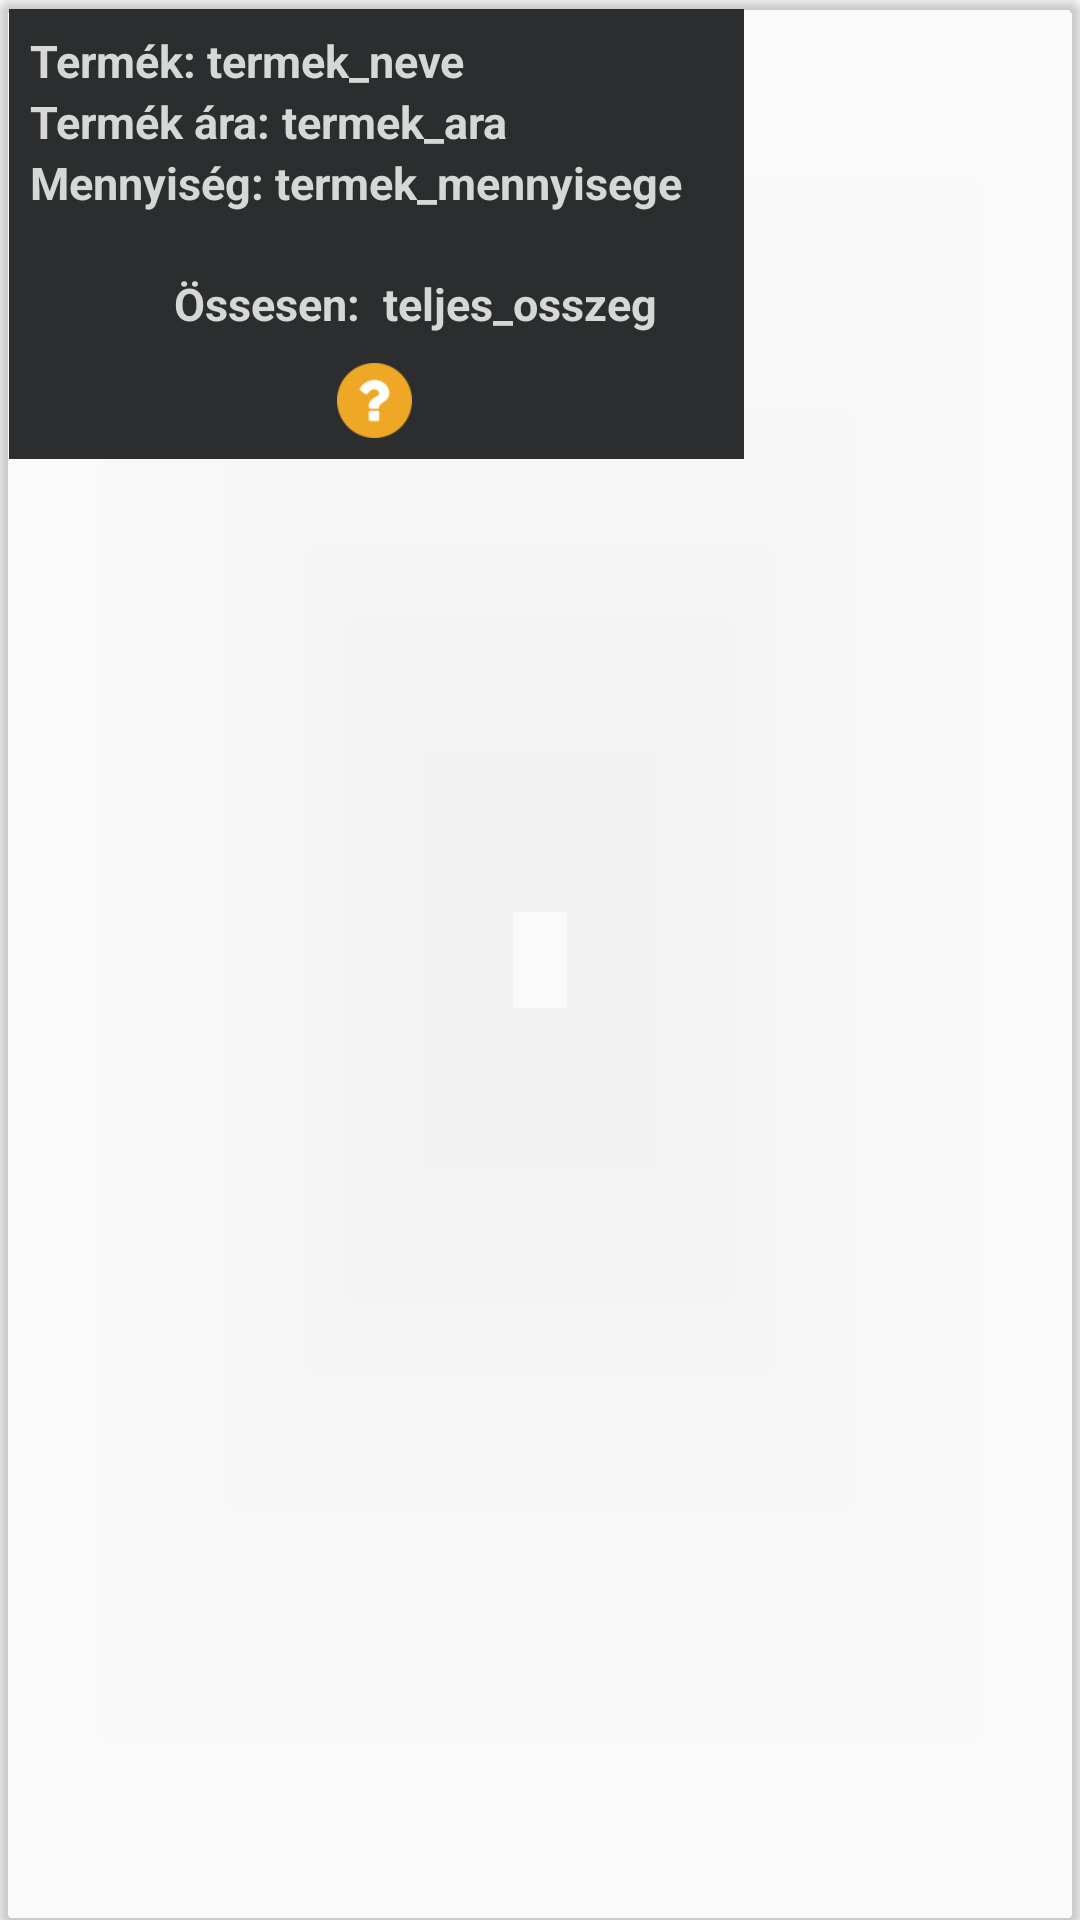

Locate icon controls on the screen. Image size 1080 x 1920, boxes as (x1, y1, x2, y2).
questionmark: (337, 363, 412, 438)
